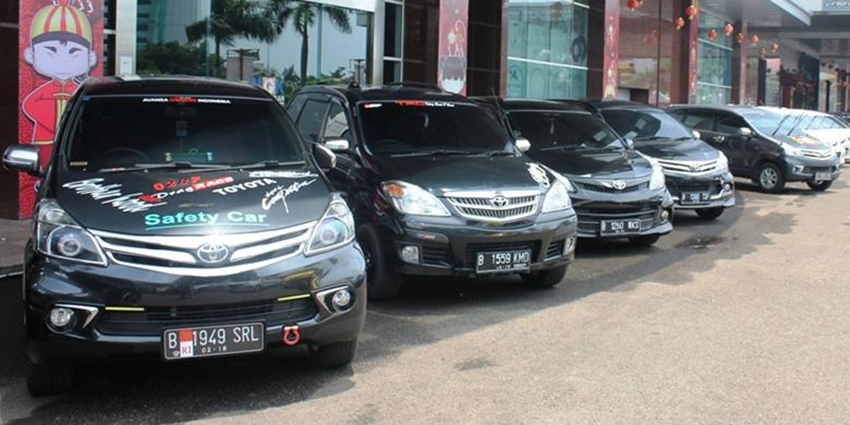plate: (165, 326, 262, 356), (477, 252, 528, 272), (601, 217, 640, 237), (680, 193, 711, 204)
